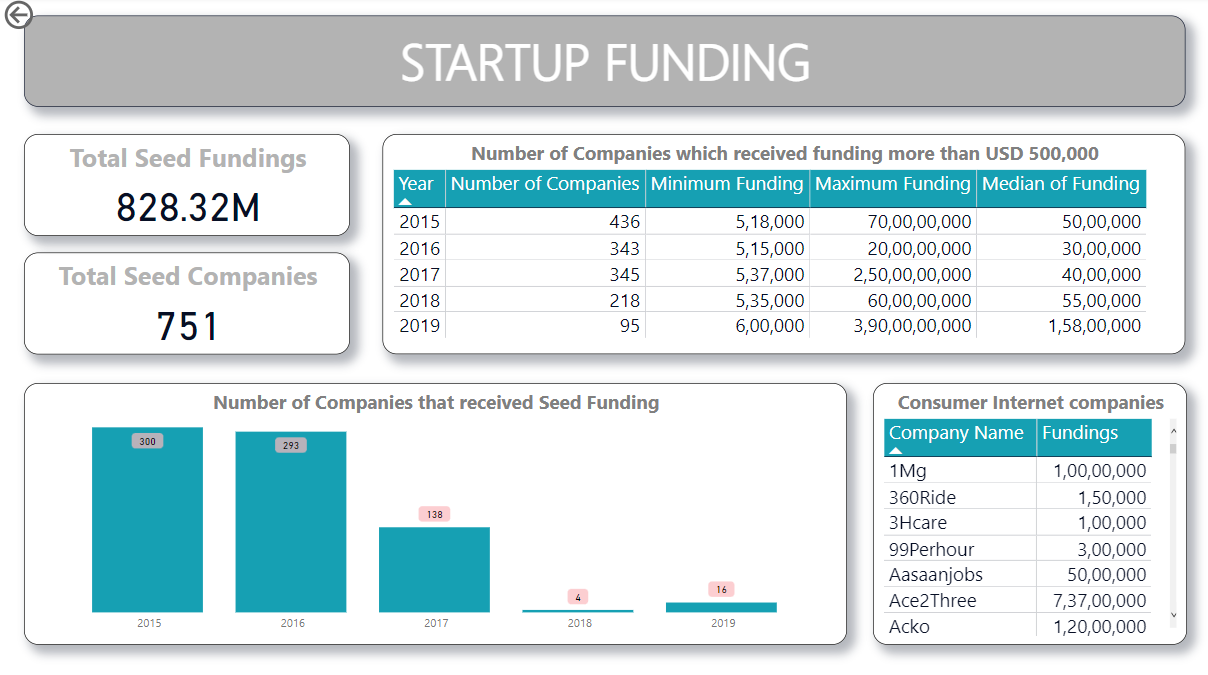

What the dashboard file says about the page in this screenshot:
{"tool":"powerbi","page":{"name":"Page 2","canvas":[1280,720],"ordinal":1},"visuals":[{"type":"lineStackedColumnComboChart","title":"Number of Companies that received Seed Funding","fields":{"Category":["STARTUP_FUNDING.DATE.Variation.Date Hierarchy.Year","STARTUP_FUNDING.DATE.Variation.Date Hierarchy.Quarter","STARTUP_FUNDING.DATE.Variation.Date Hierarchy.Month","STARTUP_FUNDING.DATE.Variation.Date Hierarchy.Day"],"Y":["CountNonNull(STARTUP_FUNDING.SR_NO)"]},"box":[24.7,410.2,871.7,277.3],"z":0},{"type":"tableEx","title":"Number of Companies which received funding more than 5,00,000 USD","fields":{"Values":["STARTUP_FUNDING.DATE.Variation.Date Hierarchy.Year","CountNonNull(STARTUP_FUNDING.SR_NO)","Min(STARTUP_FUNDING.AMOUNT_IN_USD)","Max(STARTUP_FUNDING.AMOUNT_IN_USD)1","Median(STARTUP_FUNDING.AMOUNT_IN_USD)2"]},"box":[404.5,146.2,850.8,233.6],"z":1000},{"type":"textbox","box":[24.7,20.9,1230.6,96.9],"z":2000},{"type":"card","title":"Total Seed Fundings","fields":{"Values":["Sum(STARTUP_FUNDING.AMOUNT_IN_USD)"]},"box":[24.7,146.2,345.6,108.2],"z":3000},{"type":"actionButton","box":[0,0,100,40],"z":4000},{"type":"card","title":"Total Seed Companies","fields":{"Values":["CountNonNull(STARTUP_FUNDING.SR_NO)"]},"box":[24.7,271.6,345.6,108.2],"z":5000},{"type":"tableEx","title":"Consumer Internet companies ","fields":{"Values":["STARTUP_FUNDING.STARTUP_NAME","Sum(STARTUP_FUNDING.AMOUNT_IN_USD)"]},"box":[924.9,410.2,332.3,277.3],"z":6000}]}

Visuals, with their boxes in screenshot pixels (x1, y1, x2, y2), scaled from the page's 1280x720 canvas onto the 1208x675 screenshot:
"Number of Companies that received Seed Funding" lineStackedColumnComboChart: (x1=23, y1=385, x2=846, y2=645)
"Number of Companies which received funding more than 5,00,000 USD" tableEx: (x1=382, y1=137, x2=1185, y2=356)
textbox: (x1=23, y1=20, x2=1185, y2=110)
"Total Seed Fundings" card: (x1=23, y1=137, x2=349, y2=238)
actionButton: (x1=0, y1=0, x2=94, y2=38)
"Total Seed Companies" card: (x1=23, y1=255, x2=349, y2=356)
"Consumer Internet companies " tableEx: (x1=873, y1=385, x2=1186, y2=645)
